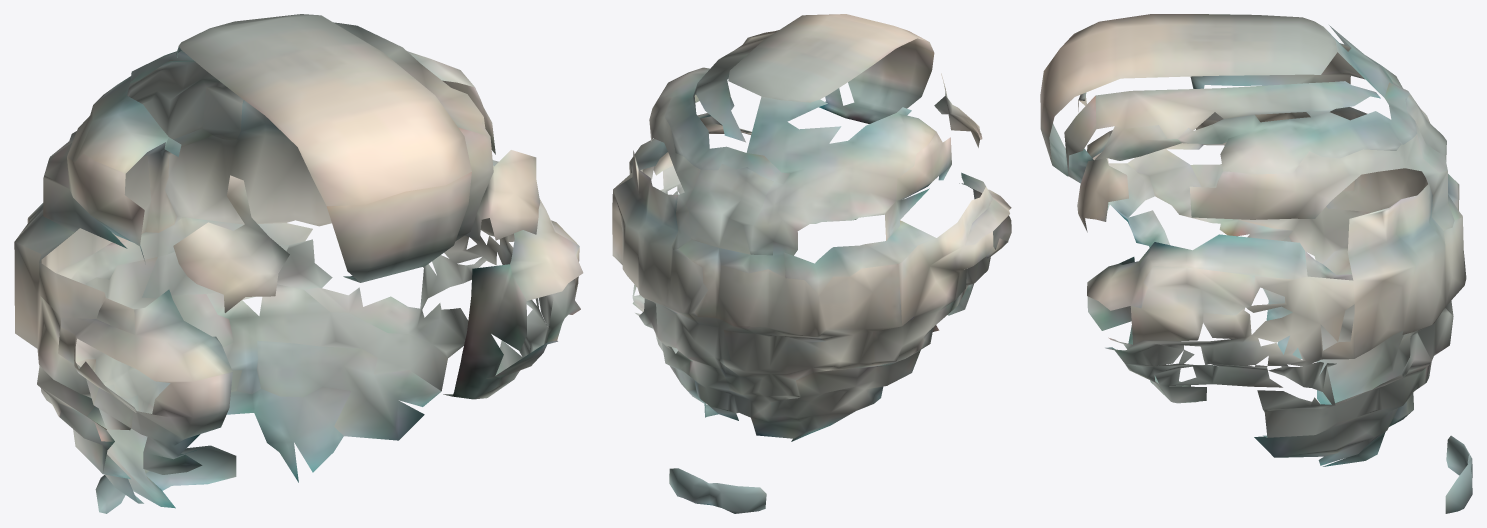
File: wig-louis15.glb
The picture shows the model from 3 angles, left to right: view 1: azimuth 30°, elevation 25°; view 2: azimuth 150°, elevation 25°; view 3: azimuth 270°, elevation 25°; orthographic projection. The views are drawn at different scales.
Parts seen in each view (by area): view 1: material.001; view 2: material.001; view 3: material.001.
Boxes of the visible parts, bbox=[...] form: material.001: bbox=[14, 14, 583, 513]; material.001: bbox=[612, 14, 1011, 513]; material.001: bbox=[1040, 14, 1472, 513].
Size of the model in its own units: 0.8481 by 0.9171 by 0.7891.
Materials: 1 (1 with a texture image).
